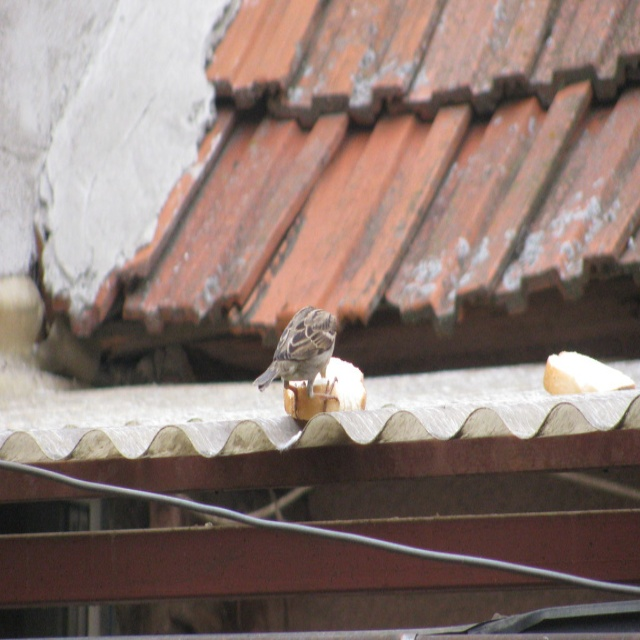Sparrow: (253, 307, 337, 413)
